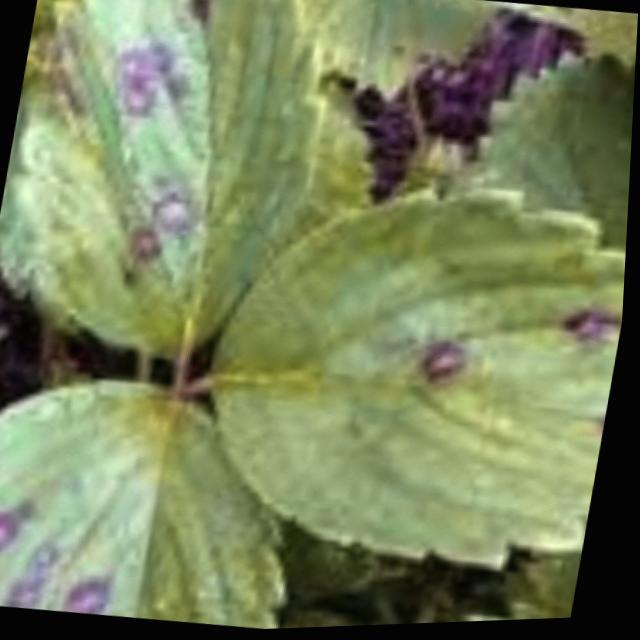Leaf Spot: (215, 190, 629, 575), (0, 0, 329, 368), (0, 376, 297, 631)
